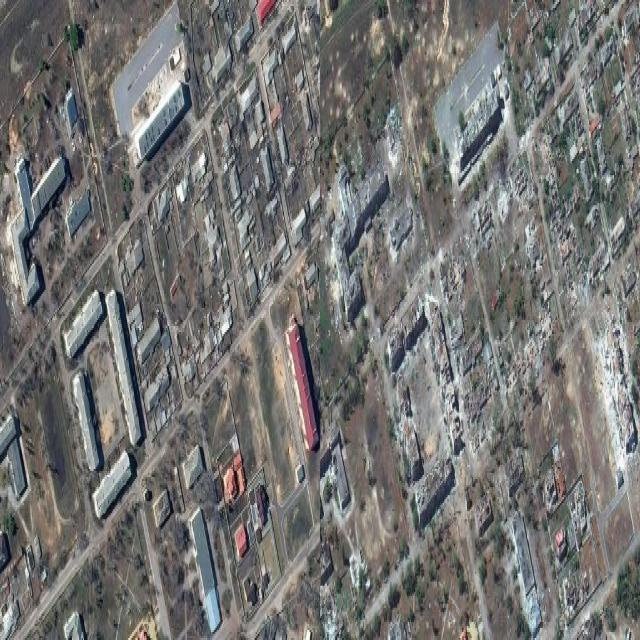damage: (536, 83, 611, 347), (386, 286, 456, 535), (585, 0, 640, 268), (327, 144, 397, 320), (450, 294, 505, 469), (539, 435, 592, 614), (422, 274, 468, 461), (500, 303, 554, 424), (585, 326, 640, 443), (524, 195, 554, 321), (388, 194, 418, 287), (441, 244, 469, 305), (471, 211, 495, 261)
old_road: (17, 443, 162, 638), (202, 235, 306, 396), (146, 210, 190, 406), (249, 525, 321, 634), (143, 523, 171, 640), (271, 474, 298, 565)
